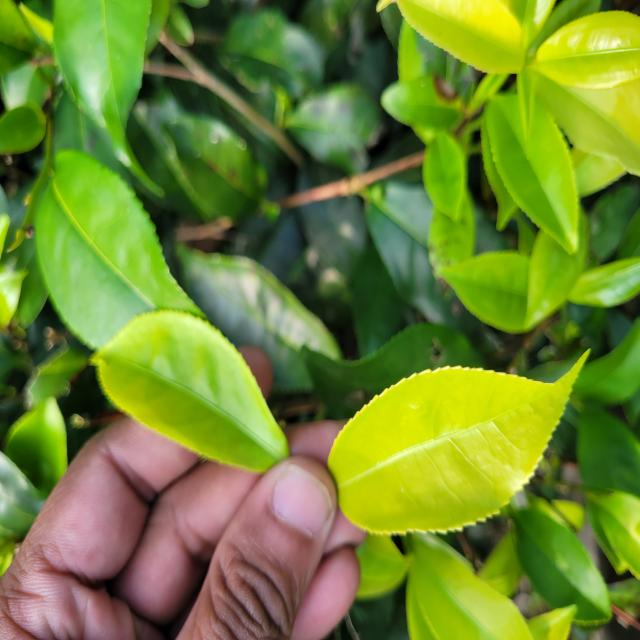Category B 2-4 days: (294, 332, 596, 568)
